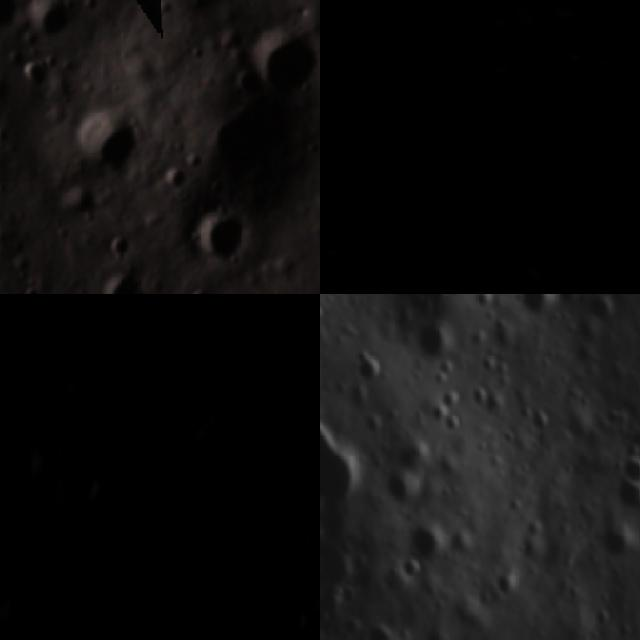crater: (337, 21, 462, 147), (438, 44, 540, 147), (578, 140, 640, 294), (216, 102, 290, 192), (465, 0, 553, 75), (425, 102, 505, 182), (320, 166, 393, 252), (320, 0, 382, 93), (140, 396, 212, 471), (46, 455, 117, 527), (248, 378, 317, 452), (494, 193, 564, 262), (530, 145, 598, 213), (576, 47, 640, 112), (235, 494, 296, 559), (260, 30, 317, 96), (466, 232, 526, 292), (194, 326, 254, 384), (80, 114, 134, 176), (416, 188, 472, 243), (541, 40, 597, 95), (490, 253, 562, 294), (396, 208, 450, 262), (195, 210, 253, 260), (268, 514, 320, 569), (320, 236, 364, 294), (90, 406, 141, 456), (173, 467, 222, 518), (263, 597, 320, 640), (411, 311, 456, 363), (0, 566, 31, 640), (27, 429, 73, 478), (592, 515, 639, 559), (262, 320, 308, 364), (405, 521, 449, 564), (95, 268, 161, 294), (37, 0, 76, 37), (45, 610, 92, 640), (349, 615, 404, 640), (351, 342, 382, 386), (608, 472, 640, 512), (516, 294, 550, 327), (232, 68, 258, 99), (619, 450, 640, 484), (132, 627, 175, 640)
